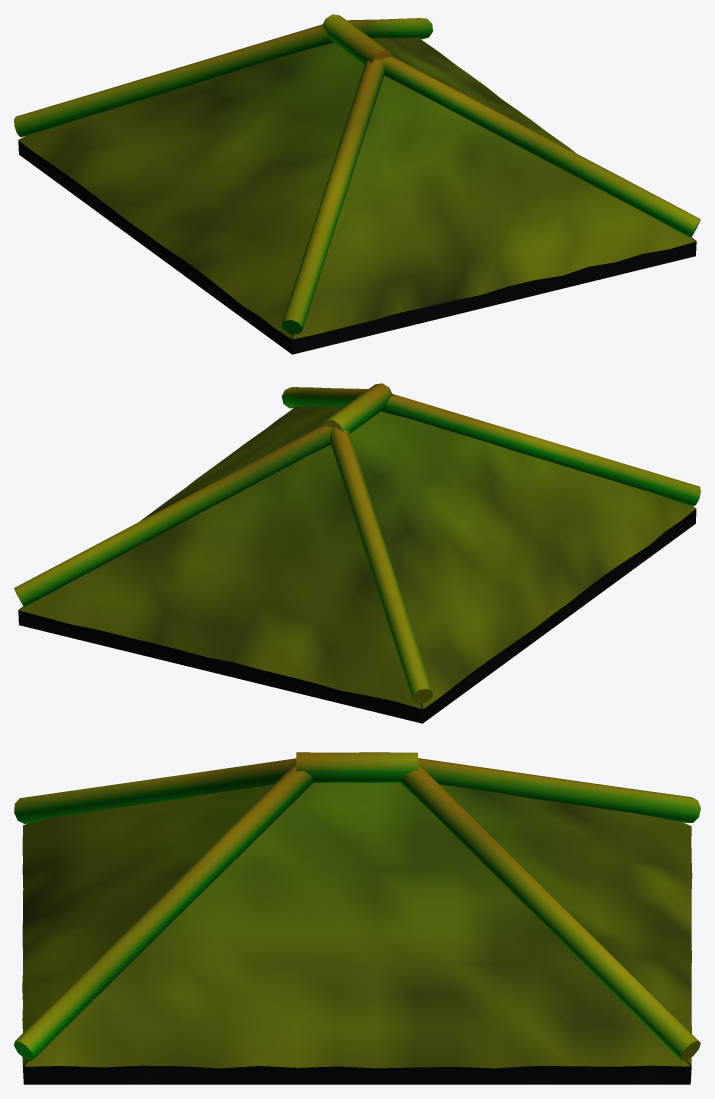
The model's file is roof_thatch_hip.glb.
3 views of the same model, one above another, from view 1: azimuth 30°, elevation 25°; view 2: azimuth 150°, elevation 25°; view 3: azimuth 270°, elevation 25° (orthographic). The views are drawn at different scales.
Visible parts, largest first — view 1: roof_thatch_hip; view 2: roof_thatch_hip; view 3: roof_thatch_hip.
Boxes of the visible parts, <box> form: roof_thatch_hip: <box>14,14,700,354</box>; roof_thatch_hip: <box>14,383,700,723</box>; roof_thatch_hip: <box>14,752,700,1084</box>.
Size of what is drawn, in the model's own units: 6.01 by 2.37 by 7.01.
